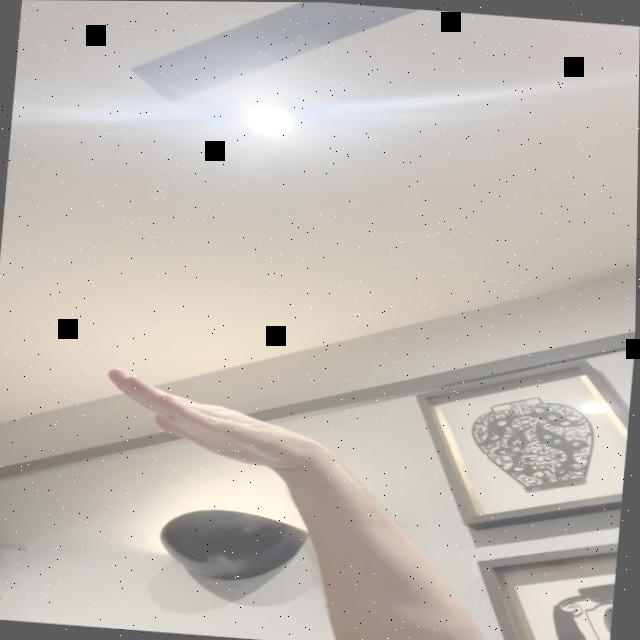Paper: (101, 368, 333, 468)
